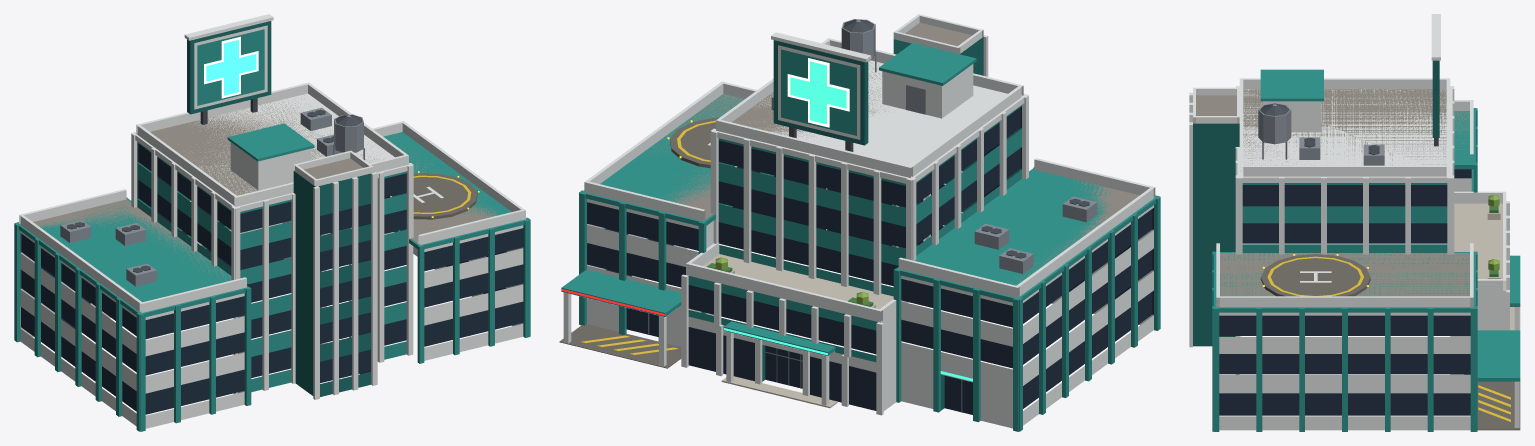
File: hospital.glb
3 views of the same model, side by side, from view 1: azimuth 30°, elevation 25°; view 2: azimuth 150°, elevation 25°; view 3: azimuth 270°, elevation 25° (orthographic). The views are drawn at different scales.
Visible parts, largest first — view 1: Body; view 2: Body; view 3: Body.
Boxes of the visible parts, x1,y1,x2,y2 form: Body: [14, 14, 530, 431]; Body: [559, 14, 1160, 431]; Body: [1189, 14, 1520, 431].
Size of what is drawn, in the model's own units: 40.7 by 27.9 by 28.31.
